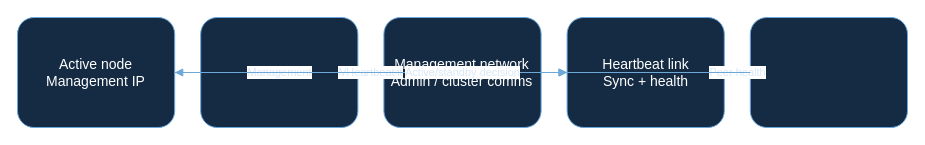
Some shapes in this 925 by 145 pixel diagram are drawn without their labels. The box of each missing label's shape, as (x1, y1, x2, y2) in pixels:
Election L2 UDP/720: (749, 16, 908, 128)
Standby node Management IP: (200, 16, 358, 128)
